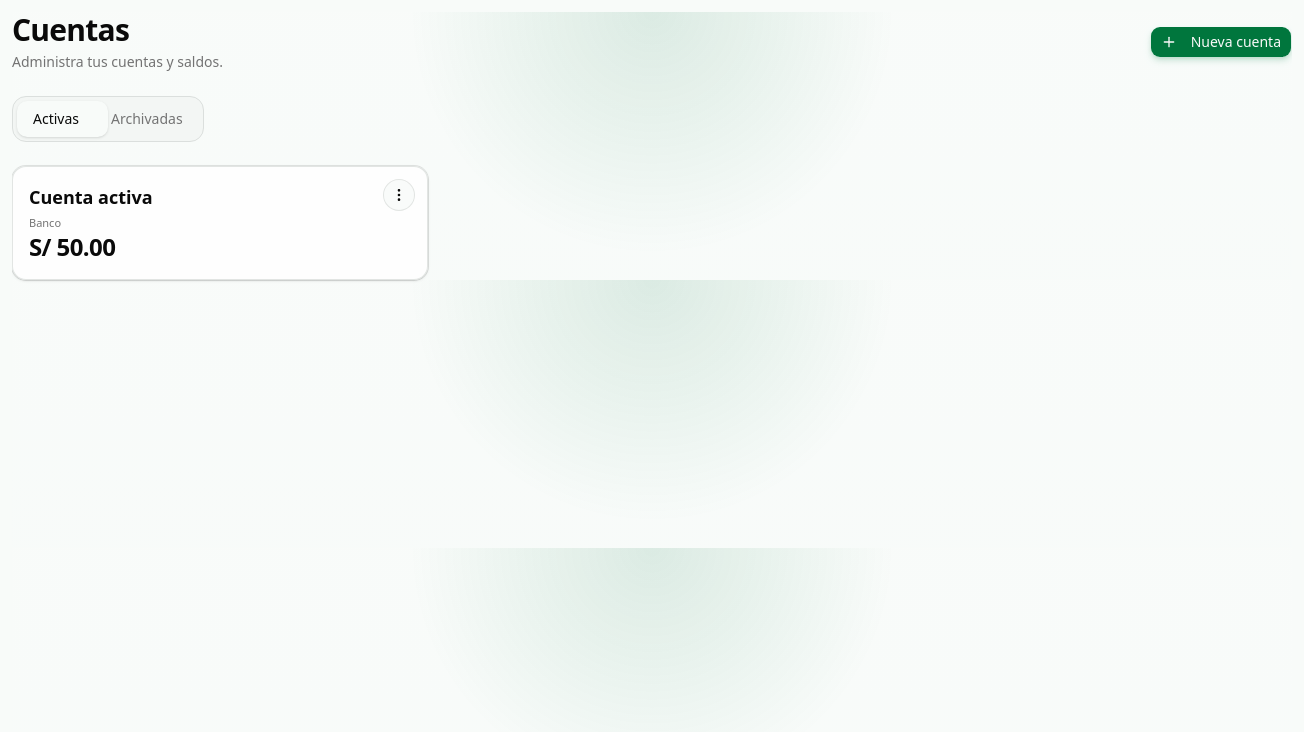
Test case: AccountsPage › archiva y desarchiva desde los filtros correspondientes
Expected: the heading "Cuenta activa" is shown, 29,183 -> 153,211
Step 1. Click the button named "Acciones de Cuenta activa" → (399, 195), box 383,179 -> 415,211
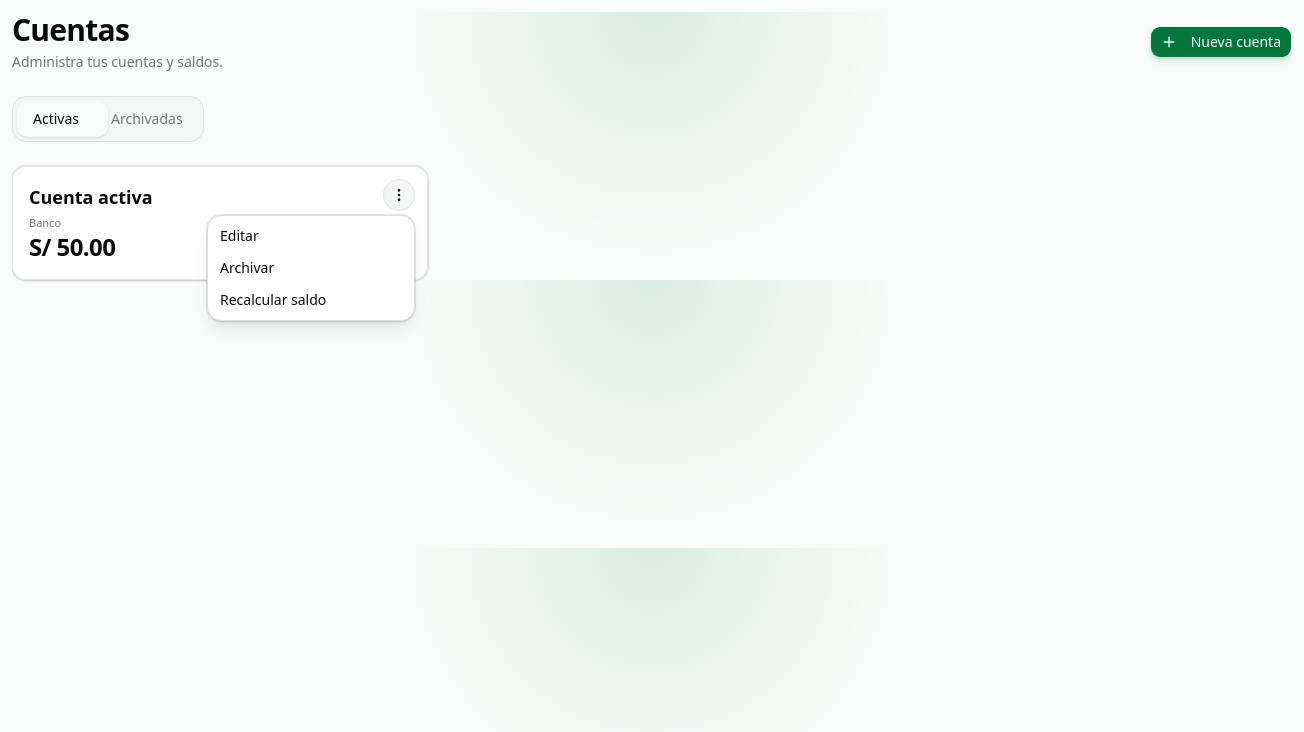
Step 2. Click the menu item "Archivar" → (247, 268), box 220,258 -> 274,277
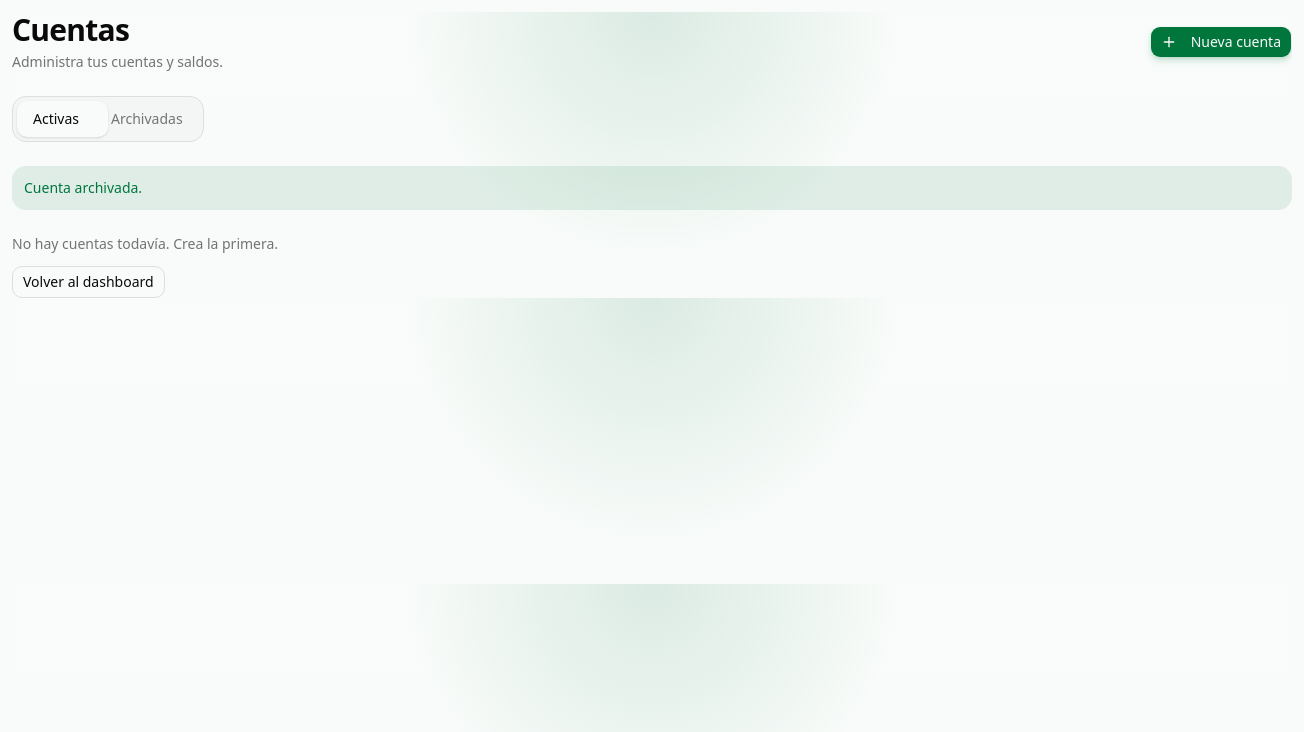
Result: the text "No hay cuentas todavía. Crea la primera." is shown at 12,234 -> 278,253
Step 3. Click the button "Archivadas" → (147, 119), box 95,101 -> 199,137
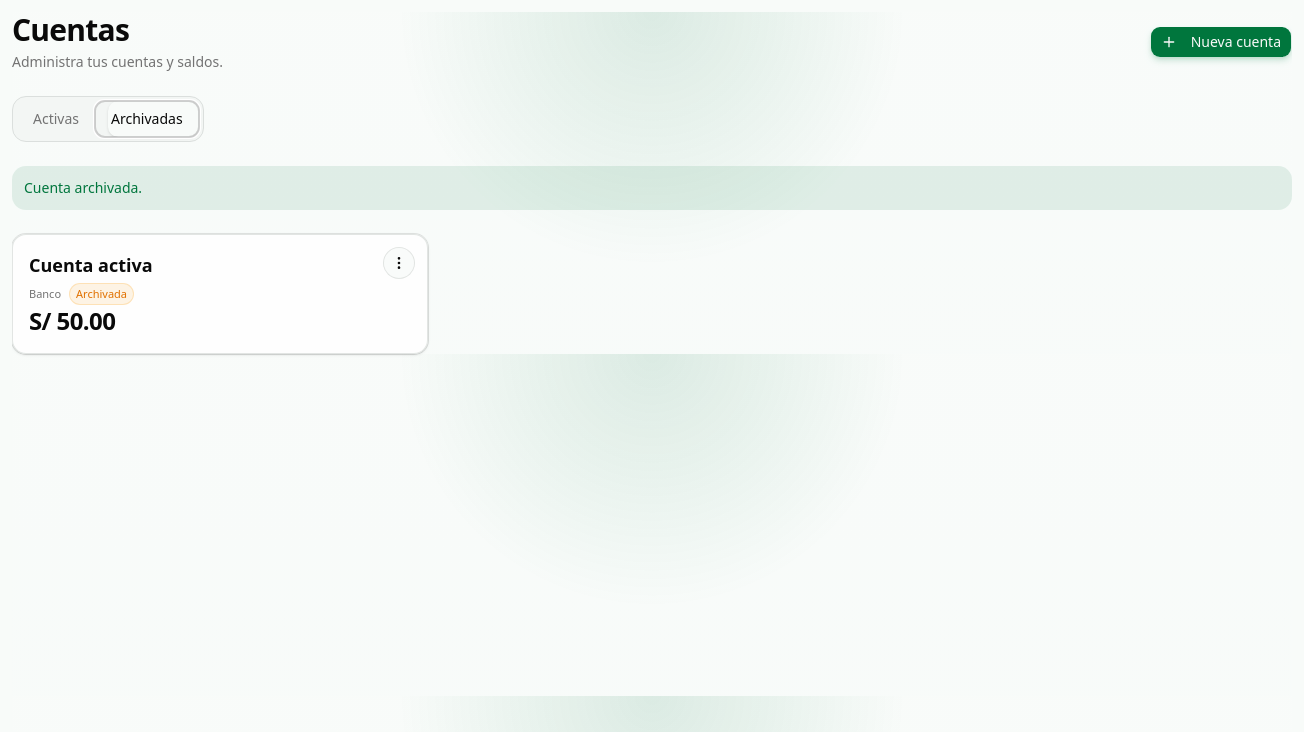
Result: the heading "Cuenta activa" is shown at 29,251 -> 153,279
Step 4. Click the button named "Acciones de Cuenta activa" → (399, 263), box 383,247 -> 415,279
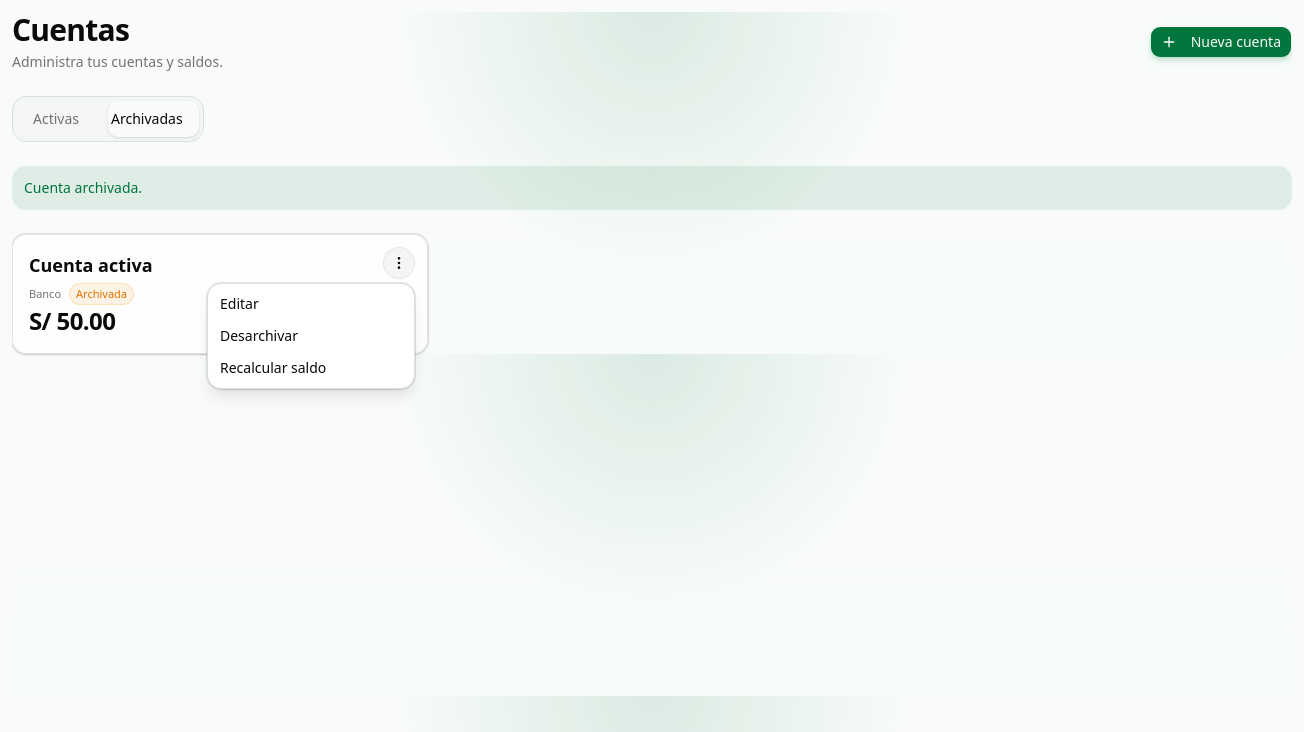
Step 5. Click the menu item "Desarchivar" → (259, 336), box 220,326 -> 298,345
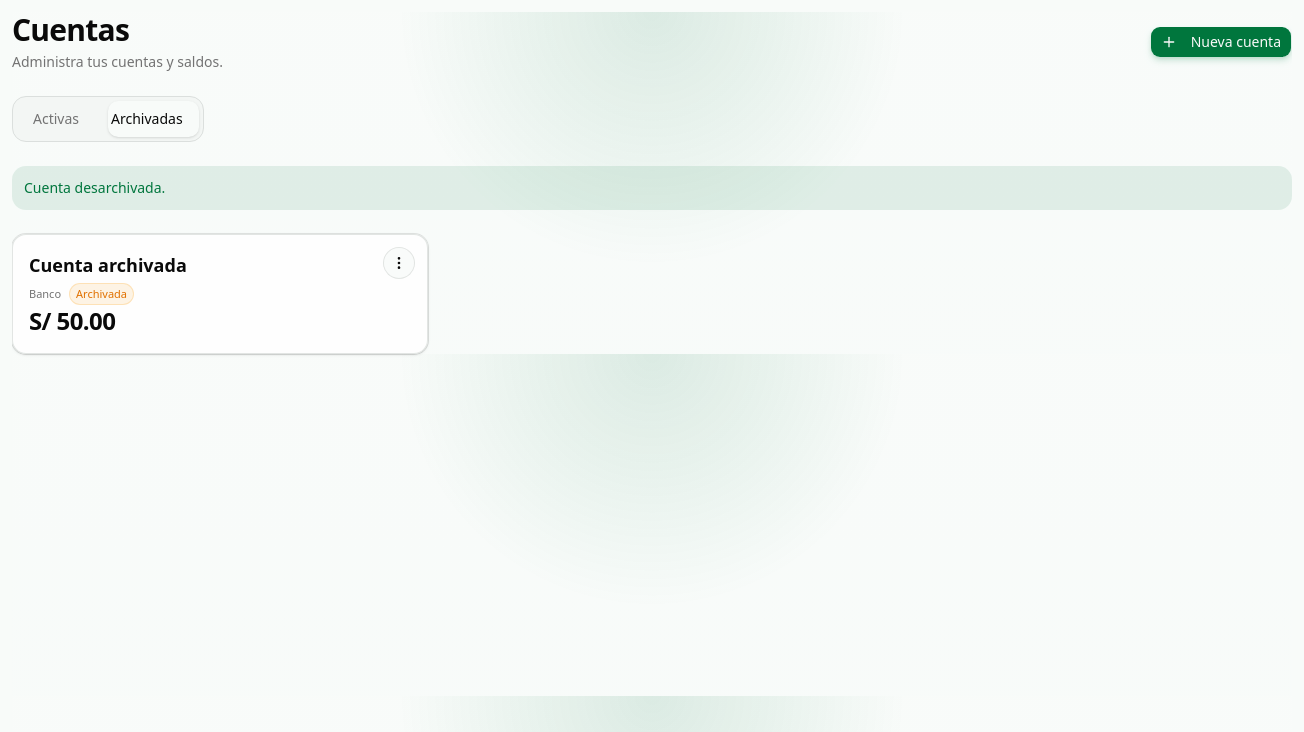
Result: the heading "Cuenta archivada" is shown at 29,251 -> 187,279
Step 6. Click the button "Activas" → (56, 119), box 17,101 -> 95,137
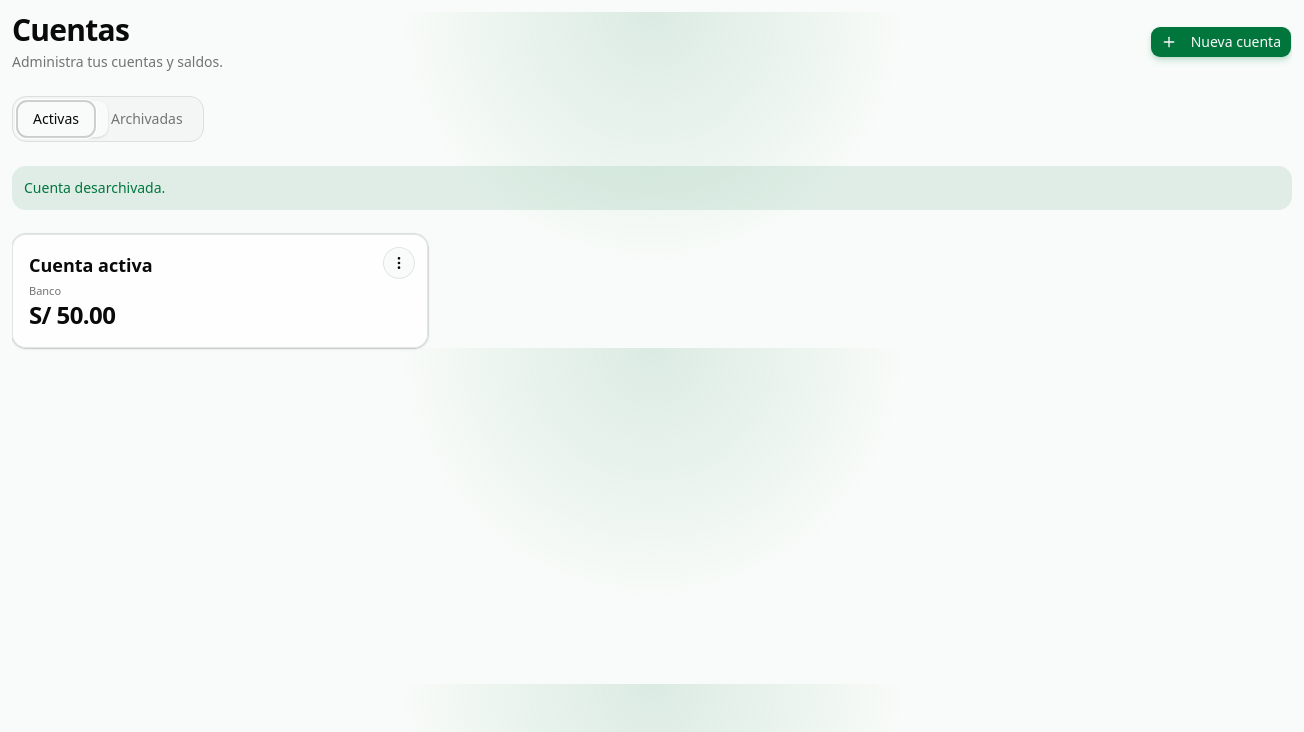
Result: the heading "Cuenta activa" is shown at 29,251 -> 153,279
